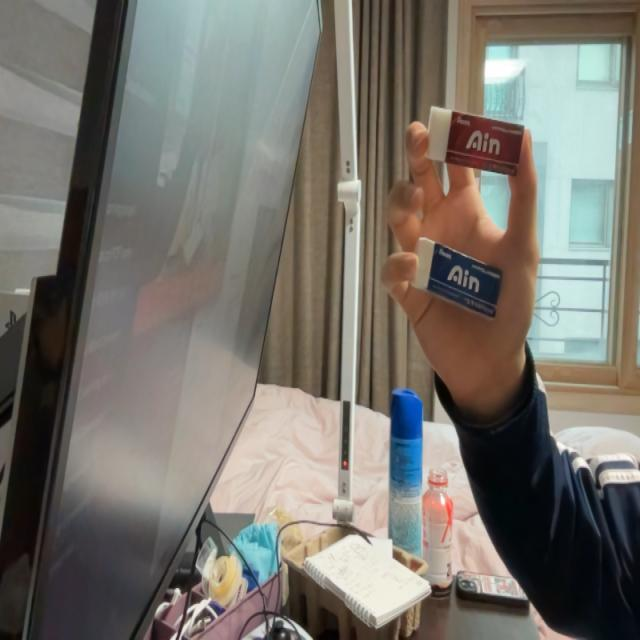blue: (411, 228, 505, 327)
red: (422, 101, 529, 182)
